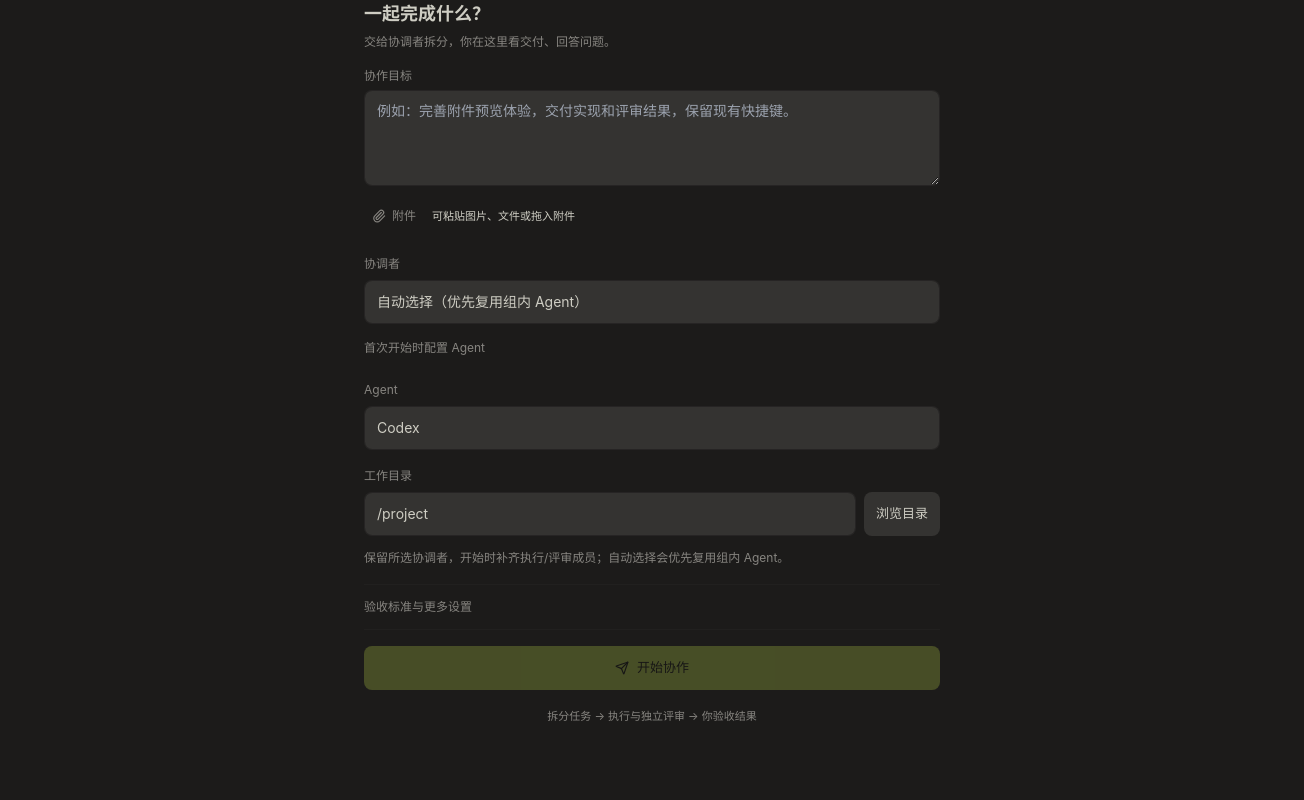
Test: starts a goal from an empty group and keeps the provisioned team on a task-save retry
Type "改善移动端体验" into the text box labelled "协作目标".
click(652, 138); type("改善移动端体验")  # box [364,90,940,186]
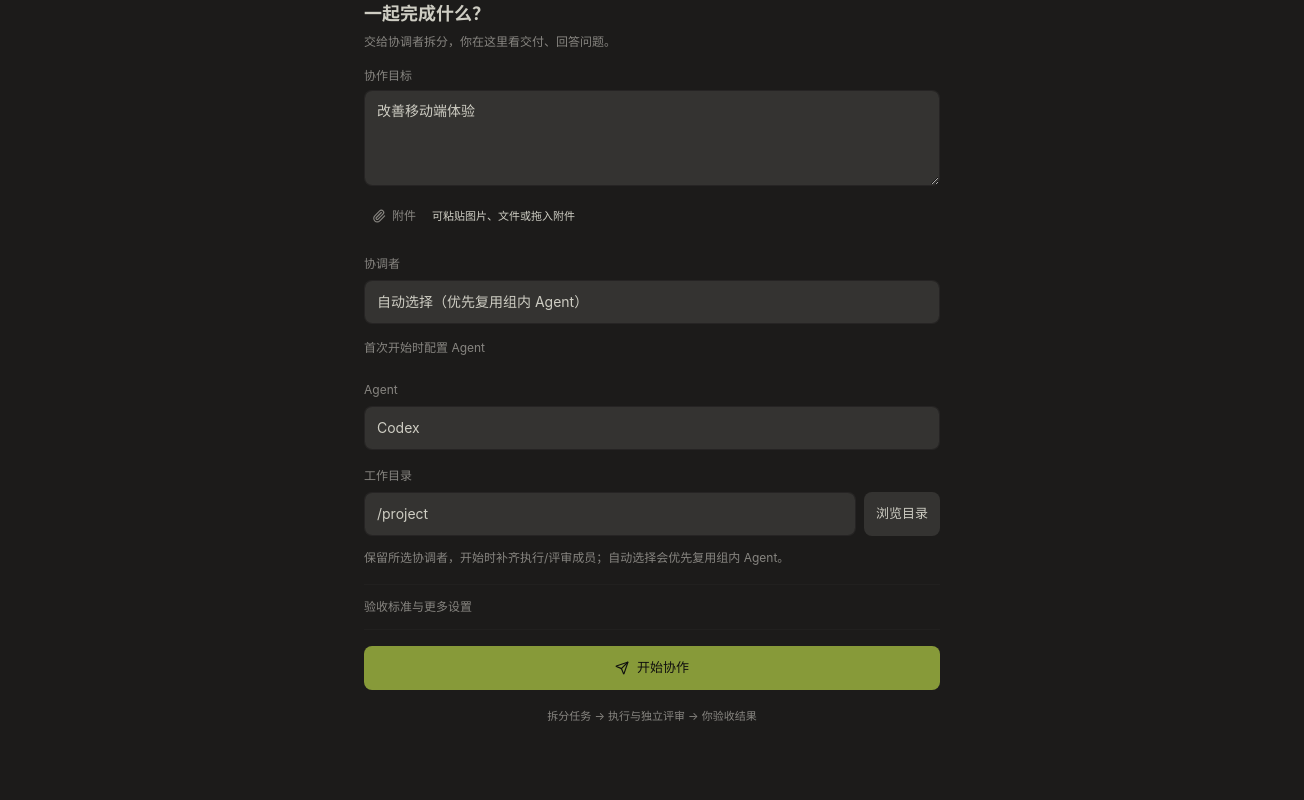
expect the button "开始协作" is enabled: met
Click the button "开始协作".
click(652, 668)  # box [364,646,940,690]
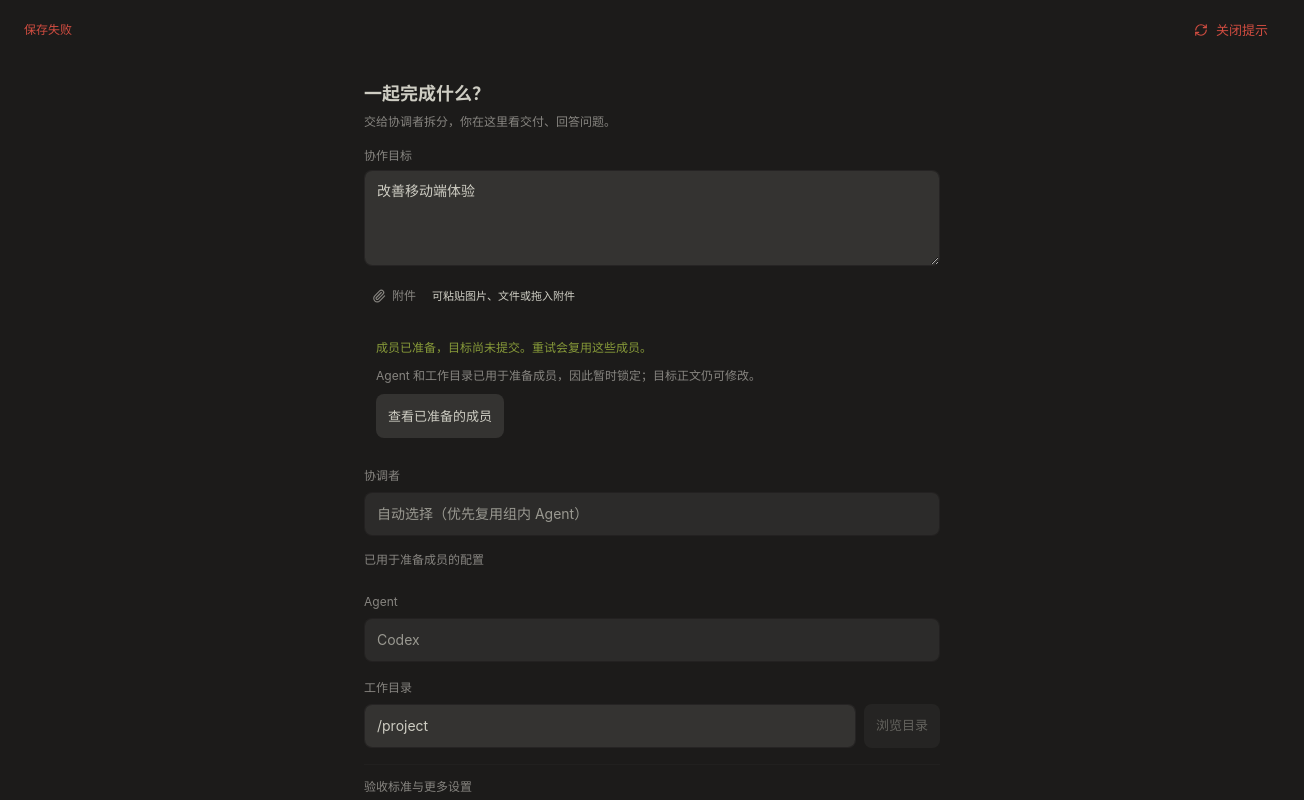
expect the message named "目标提交阶段" shows "成员已准备，目标尚未提交": met, box [376,340,652,355]
expect the message named "目标提交阶段" shows "暂时锁定": met, box [376,368,761,383]
expect the element named "协作 Agent" is disabled: met, box [364,552,940,748]
Click the button "查看已准备的成员".
click(440, 416)  # box [376,394,504,438]
(page scrolled)
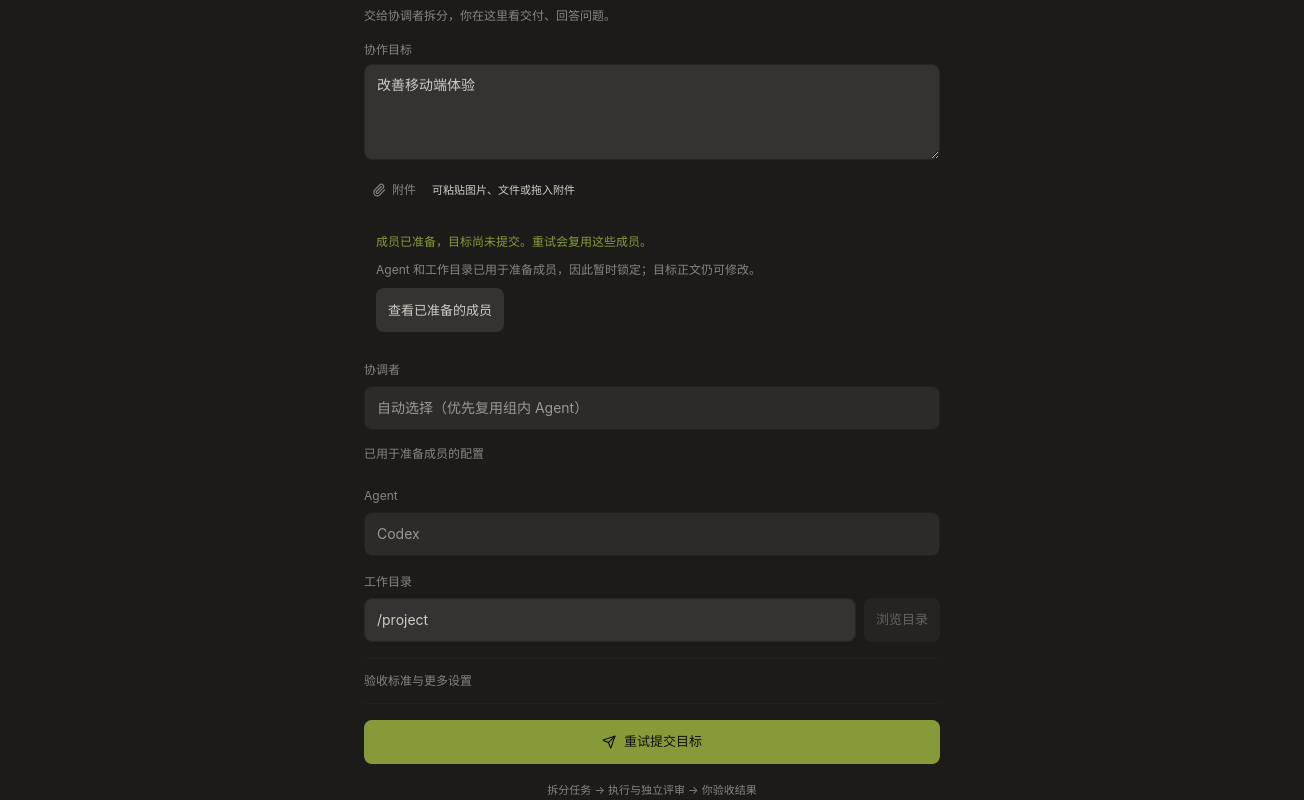
Click the button "重试提交目标".
click(652, 742)  # box [364,720,940,764]
(page scrolled)
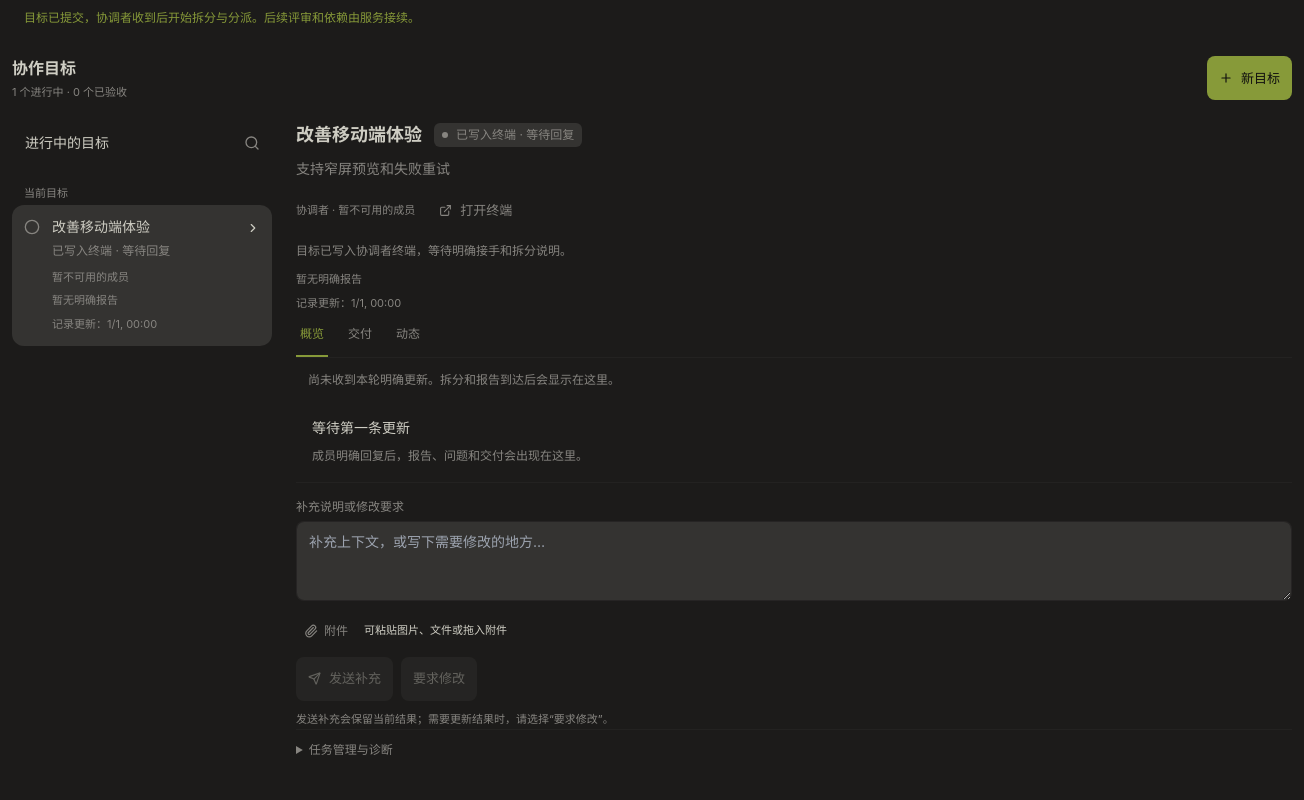
expect the heading "改善移动端体验" is shown: met, box [296,120,422,148]
